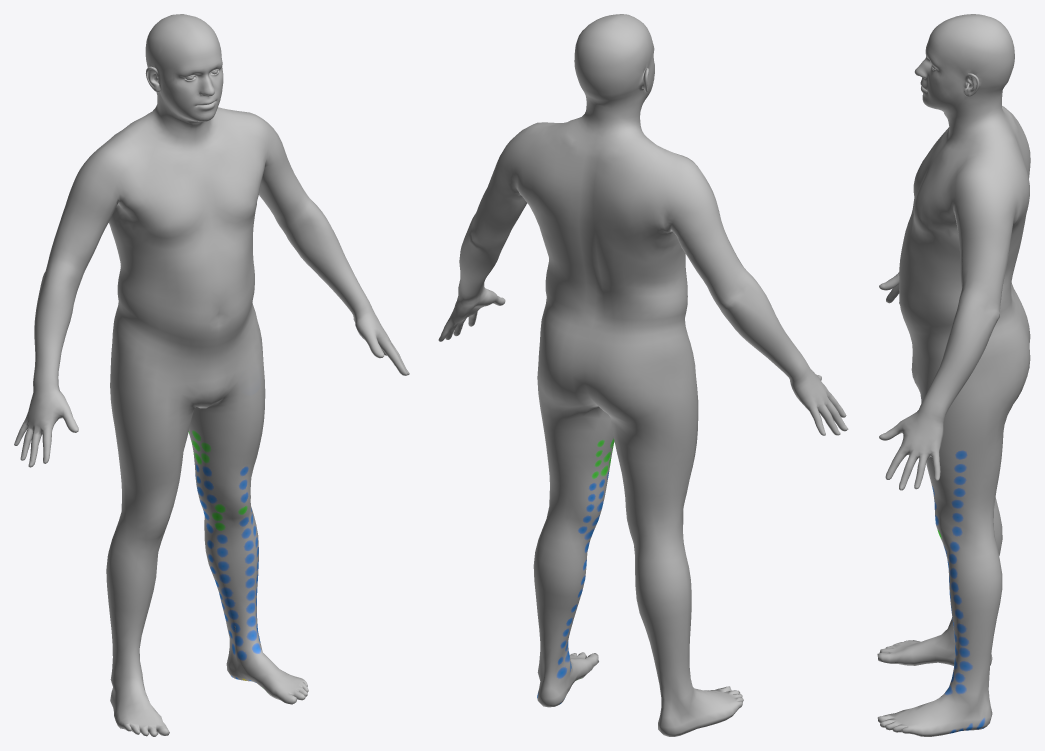
File: 1135025-supine-all.gltf
3 views of the same model, side by side, from view 1: azimuth 30°, elevation 25°; view 2: azimuth 150°, elevation 25°; view 3: azimuth 270°, elevation 25° (orthographic). The views are drawn at different scales.
Visible parts, largest first — view 1: Male 68in 180lbs-A-pose; view 2: Male 68in 180lbs-A-pose; view 3: Male 68in 180lbs-A-pose.
Boxes of the visible parts, x1=… form: Male 68in 180lbs-A-pose: x1=14, y1=14, x2=409, y2=736; Male 68in 180lbs-A-pose: x1=438, y1=14, x2=848, y2=736; Male 68in 180lbs-A-pose: x1=877, y1=14, x2=1030, y2=736.
Bounding box in the file's own units: 3.06 × 5.17 × 1.05.
1 material, 1 textured.
